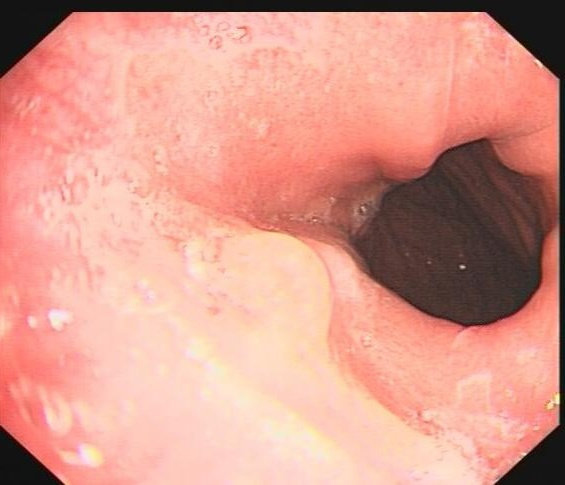Polyp: (173, 228, 336, 352)
